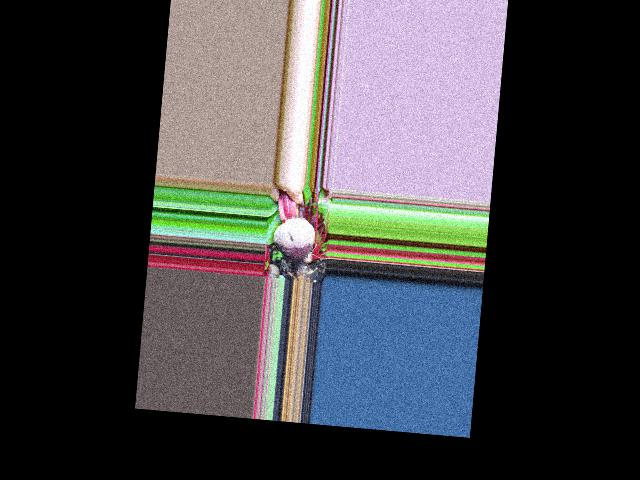beet: (270, 189, 319, 282)
